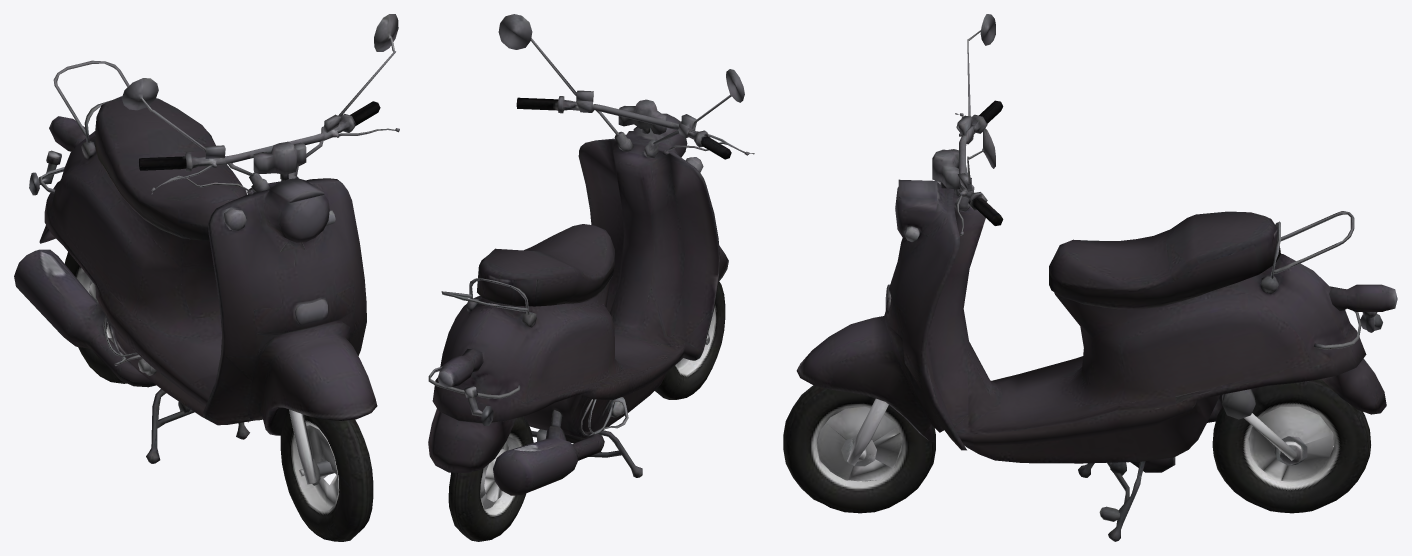
File: obstacle_scooter.glb
3 renders of one model, left to right at view 1: azimuth 30°, elevation 25°; view 2: azimuth 150°, elevation 25°; view 3: azimuth 270°, elevation 25°, orthographic. The views are drawn at different scales.
Visible parts, largest first — view 1: tripo_node_d64fe268-4855-447a-b272-1ad7c14b7cc6; view 2: tripo_node_d64fe268-4855-447a-b272-1ad7c14b7cc6; view 3: tripo_node_d64fe268-4855-447a-b272-1ad7c14b7cc6.
Part boxes in pixels (x1,y1,x2,y2): tripo_node_d64fe268-4855-447a-b272-1ad7c14b7cc6: (14, 14, 399, 541); tripo_node_d64fe268-4855-447a-b272-1ad7c14b7cc6: (428, 14, 754, 541); tripo_node_d64fe268-4855-447a-b272-1ad7c14b7cc6: (783, 14, 1397, 541).
Size of the model in its own units: 0.5176 by 0.8066 by 0.998.
Materials: 1 (1 with a texture image).
